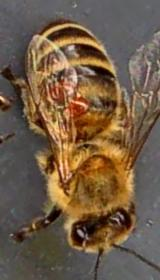varroa_mite: (60, 90, 90, 119)
